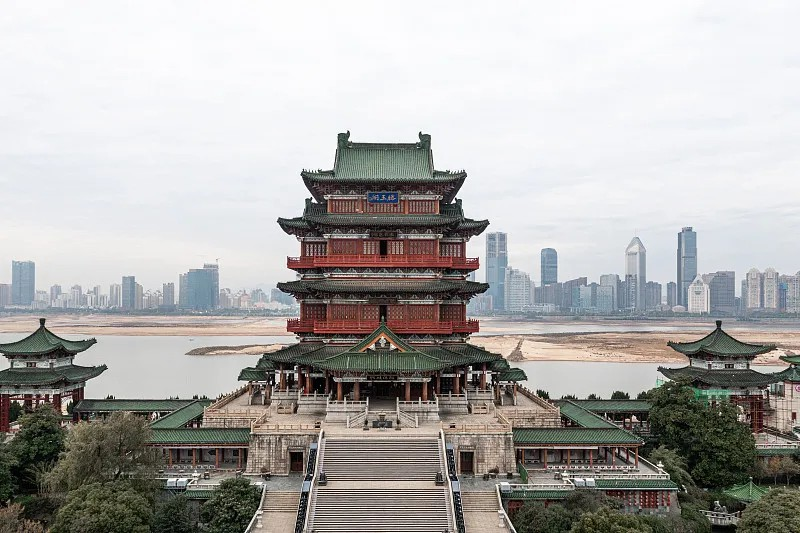Teng: (238, 130, 528, 406)
